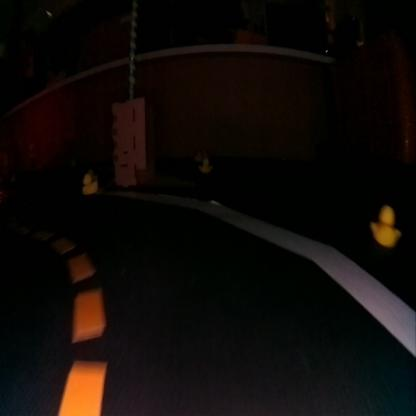Duckie: (371, 205, 399, 246), (82, 172, 97, 194), (198, 157, 212, 173)
